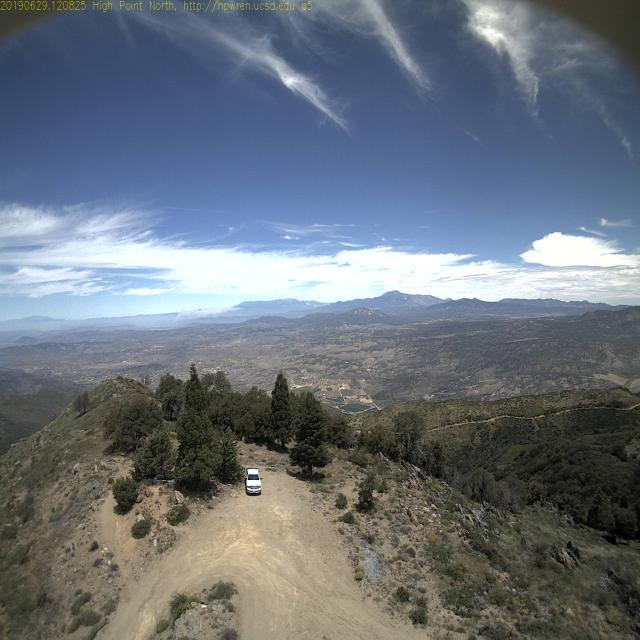smoke: (164, 296, 224, 330)
